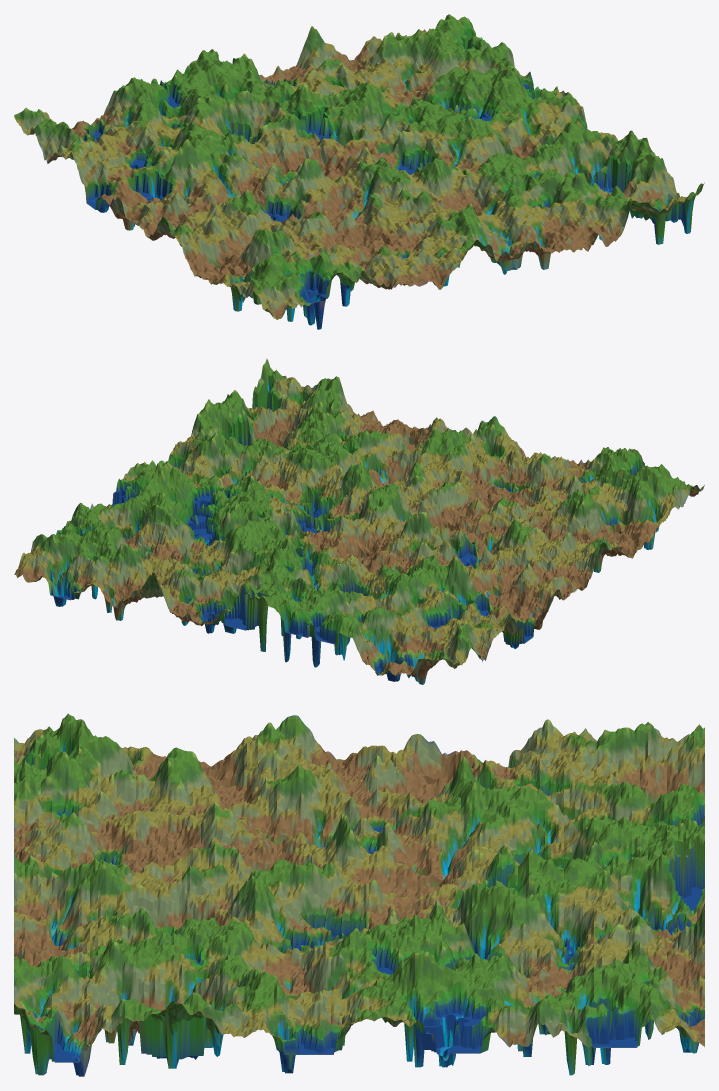
Rendered from landscape_INTERESSENCE_v4.obj.
3 views of the same model, one above another, from view 1: azimuth 30°, elevation 25°; view 2: azimuth 150°, elevation 25°; view 3: azimuth 270°, elevation 25° (orthographic). The views are drawn at different scales.
Visible parts, largest first — view 1: terrain_INTERESSENCE; view 2: terrain_INTERESSENCE; view 3: terrain_INTERESSENCE.
Boxes of the visible parts, left/top/right/bottom form: terrain_INTERESSENCE: left=14, top=14, right=704, bottom=329; terrain_INTERESSENCE: left=14, top=358, right=704, bottom=684; terrain_INTERESSENCE: left=14, top=713, right=704, bottom=1076.
Bounding box in the file's own units: 255 × 40 × 255.
Materials: 1 (1 with a texture image).
